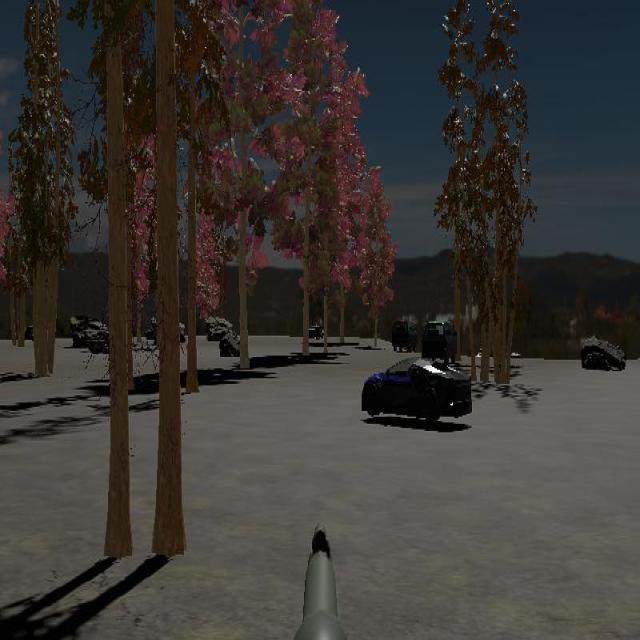car: (360, 357, 473, 426)
